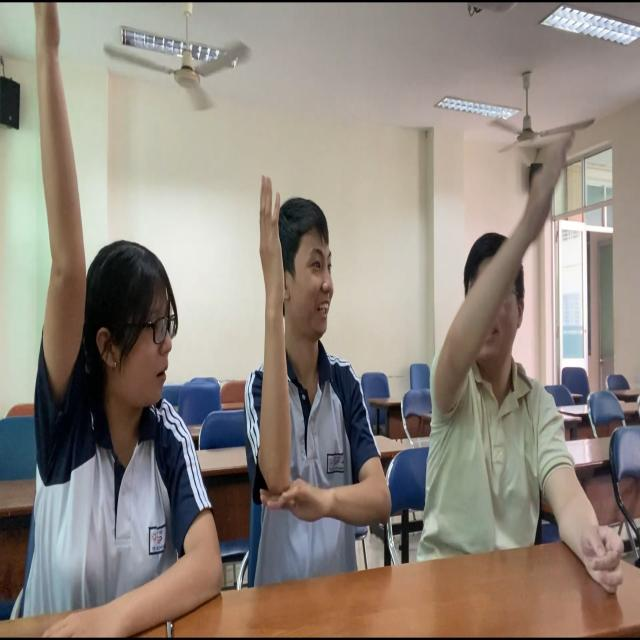raise_hand: (8, 2, 227, 631), (239, 174, 396, 581)
